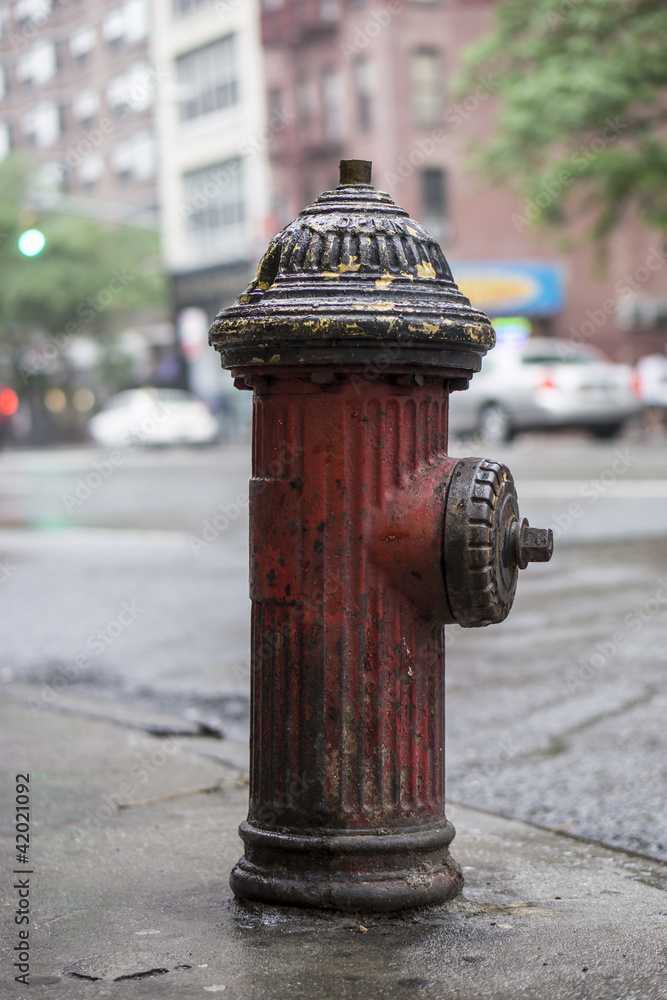FireHydrant: (189, 141, 564, 917)
